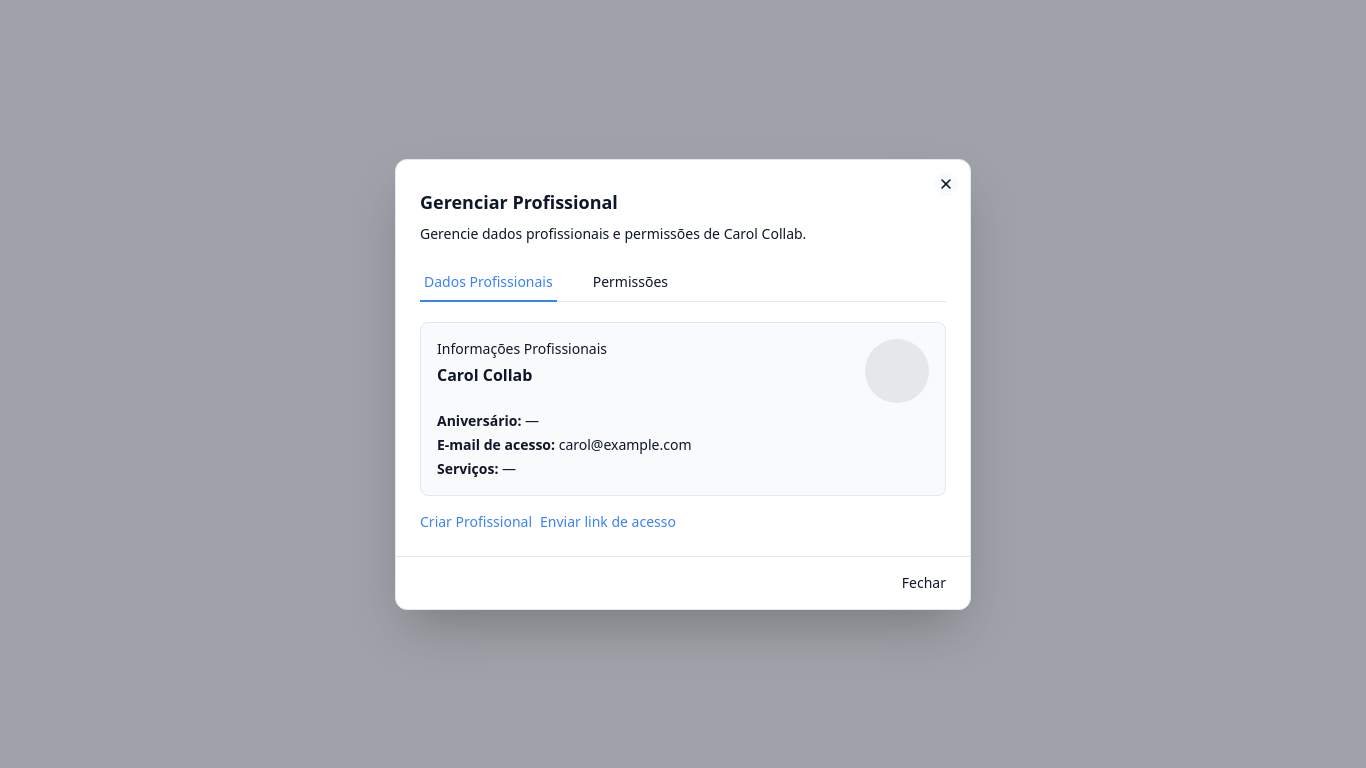
Test: ManageStaffModal › does not pre-select services when a non-owner collaborator creates their professional
Click the button "Criar Profissional" at (476, 522), box [420,512,532,532]
(page scrolled)
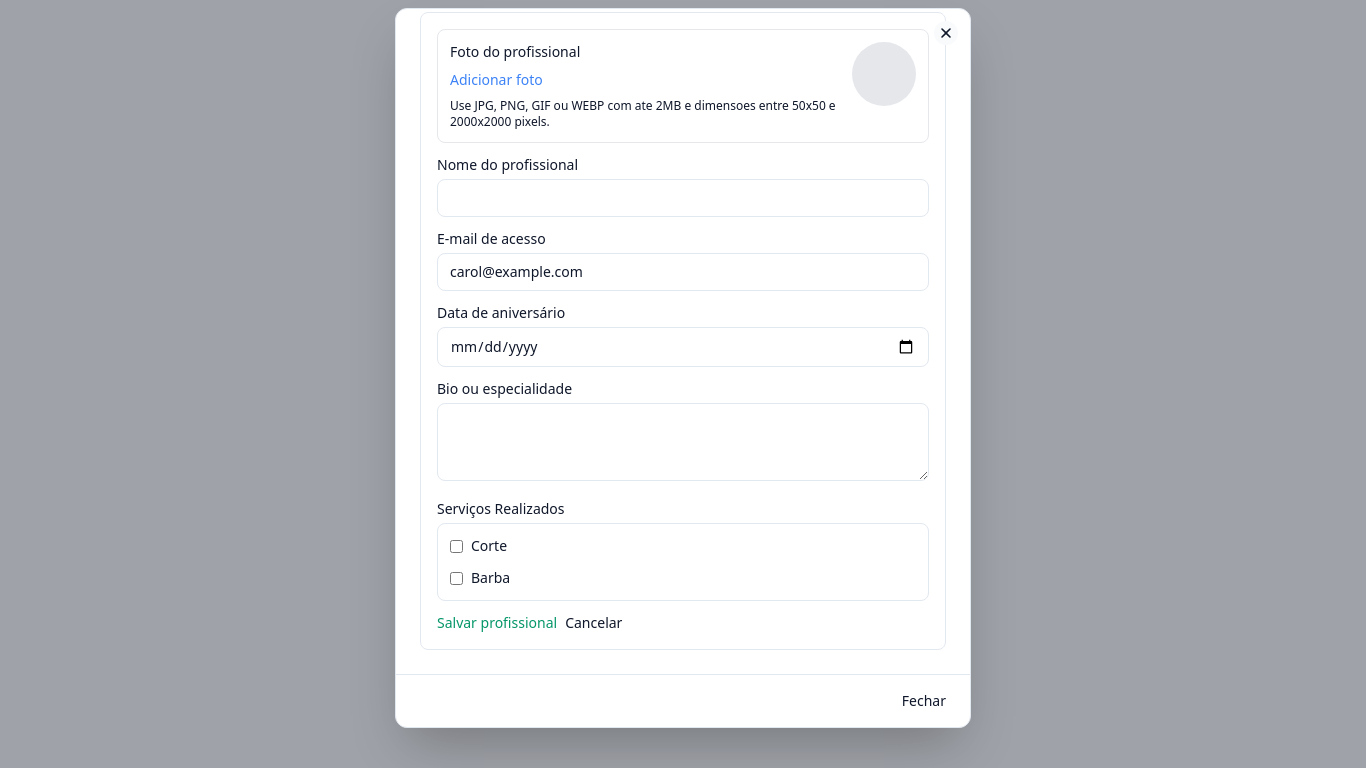
Now the checkbox labelled "Corte" is not checked, box [450,540,463,552]
Now the checkbox labelled "Barba" is not checked, box [450,572,463,584]
